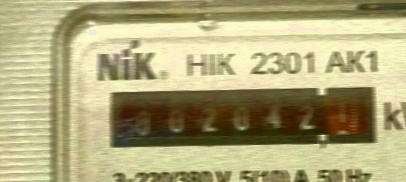0: (132, 106, 151, 137), (231, 102, 250, 133), (166, 104, 184, 136)
1: (333, 94, 348, 125)
2: (199, 104, 218, 134), (297, 101, 315, 131)
4: (264, 99, 283, 132)
screen: (104, 79, 381, 160)
